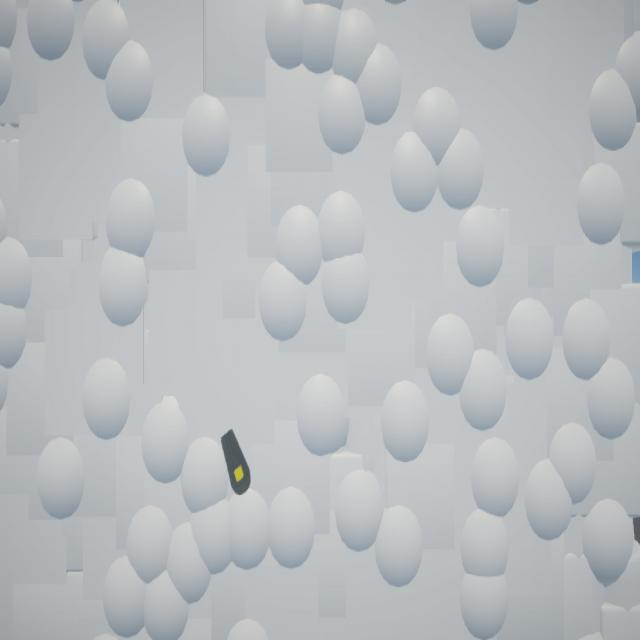handle_folk: (221, 429, 252, 496)
